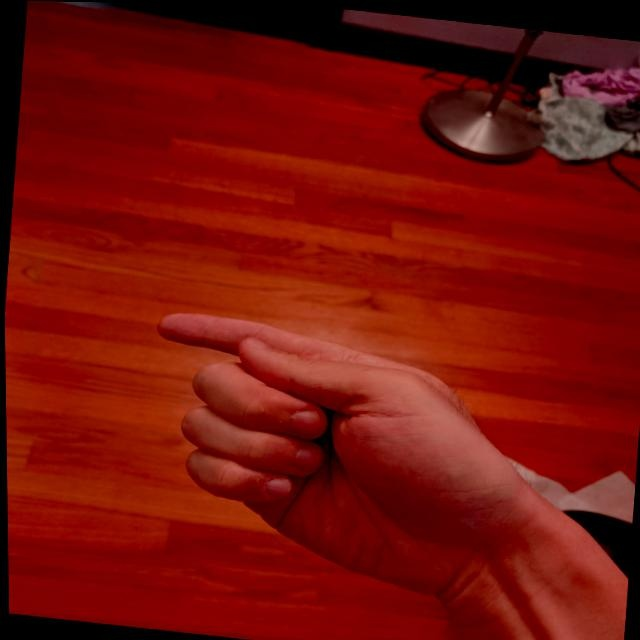G: (128, 302, 555, 610)
